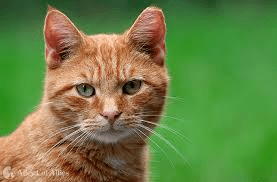cat: (25, 6, 168, 182)
